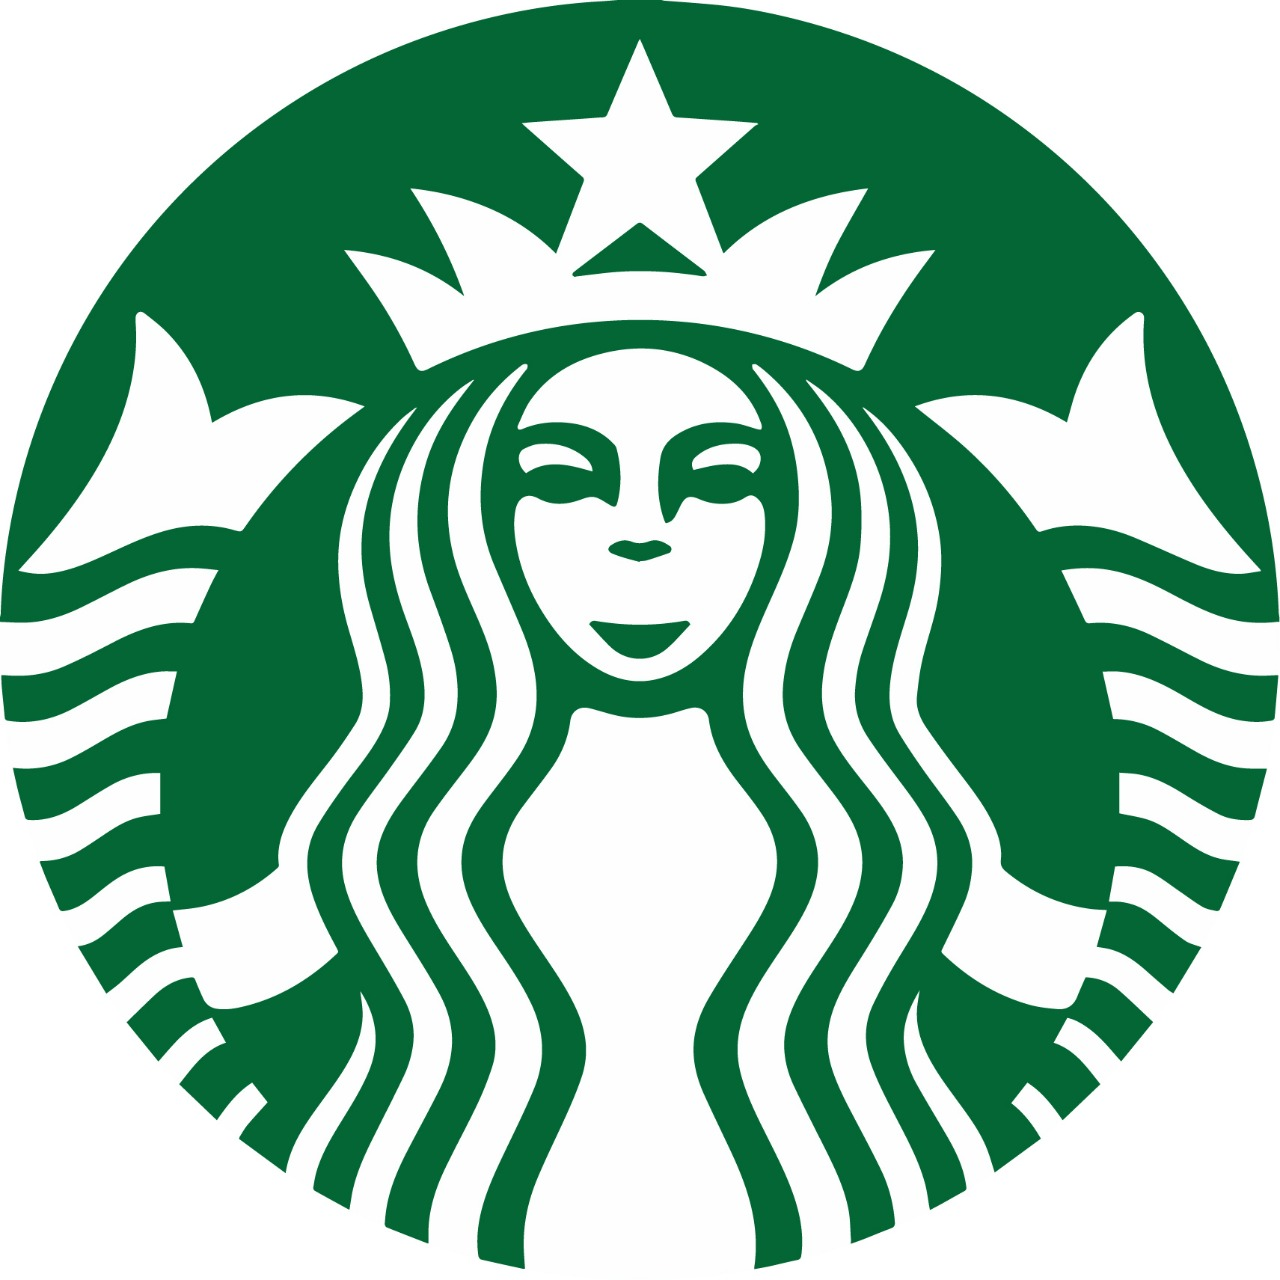starbucks Fake: (6, 9, 1280, 1280)
